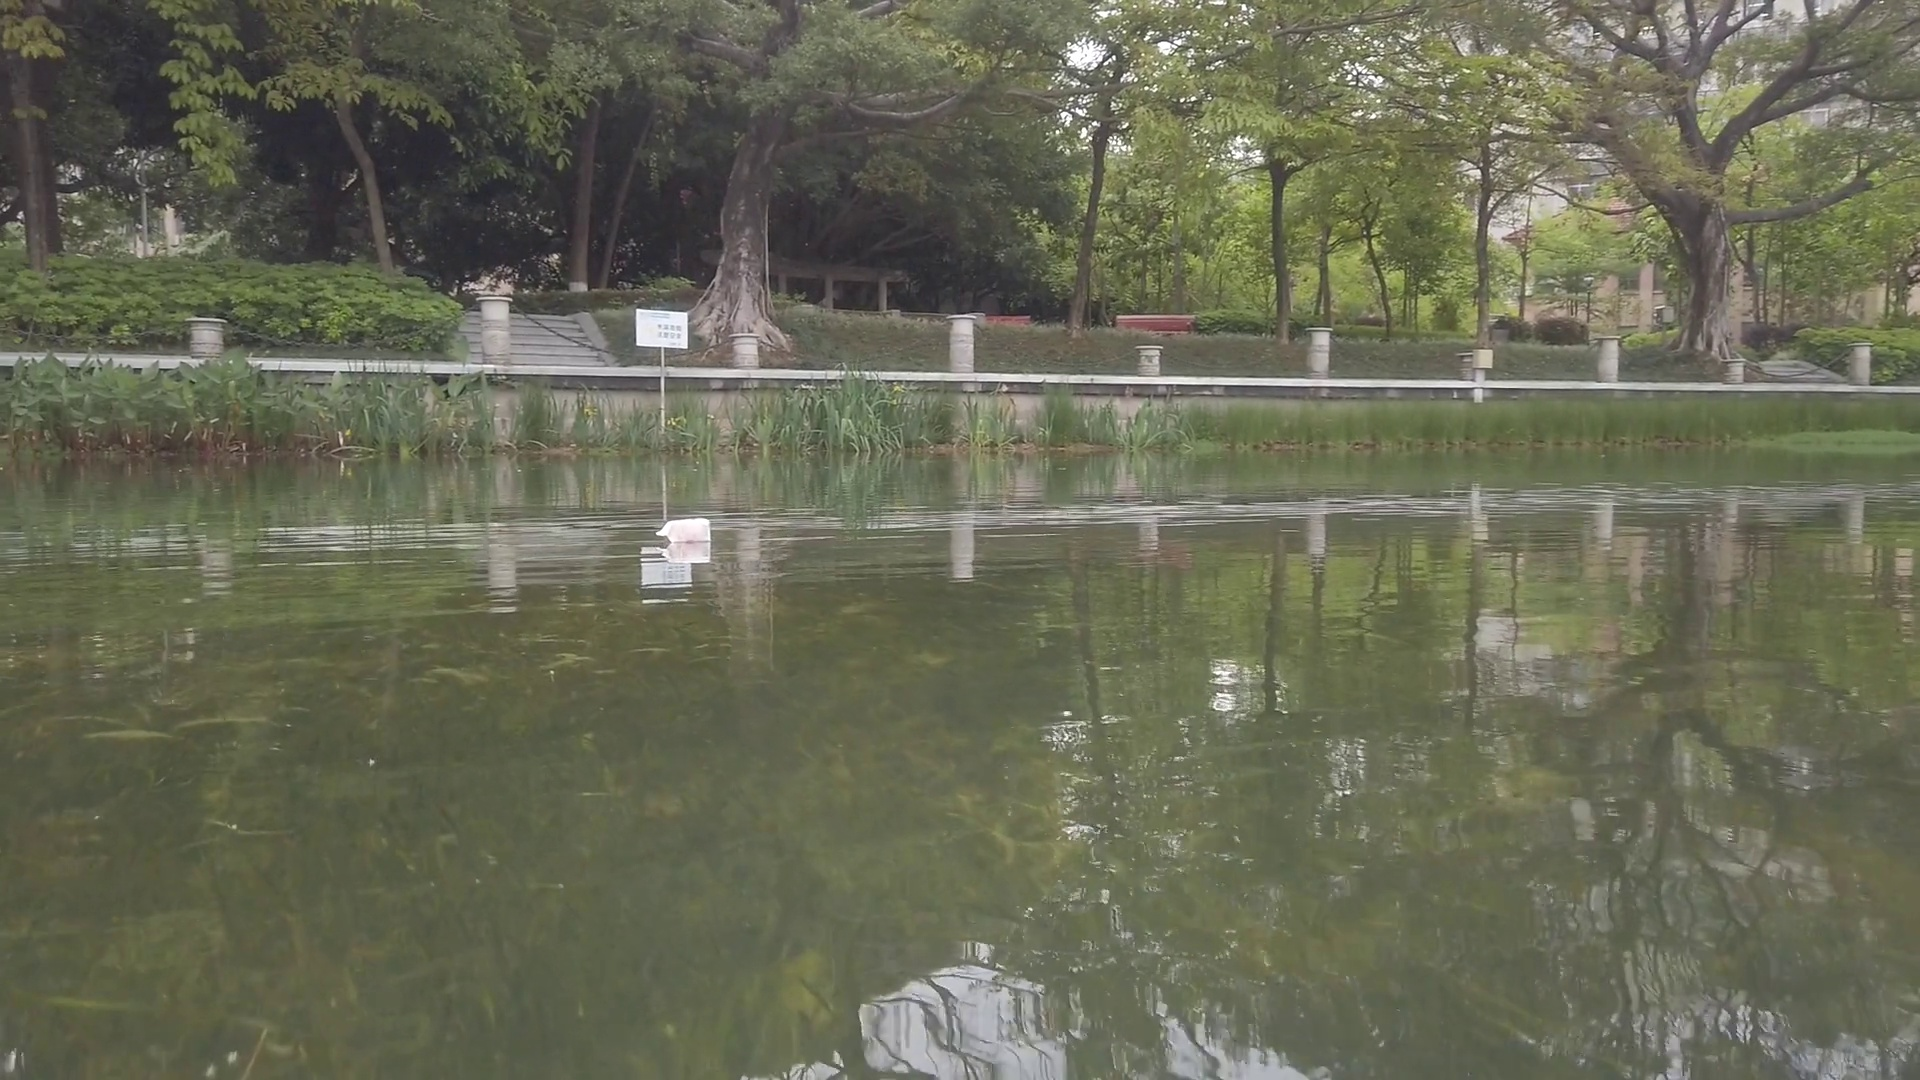carton: (655, 520, 713, 545)
